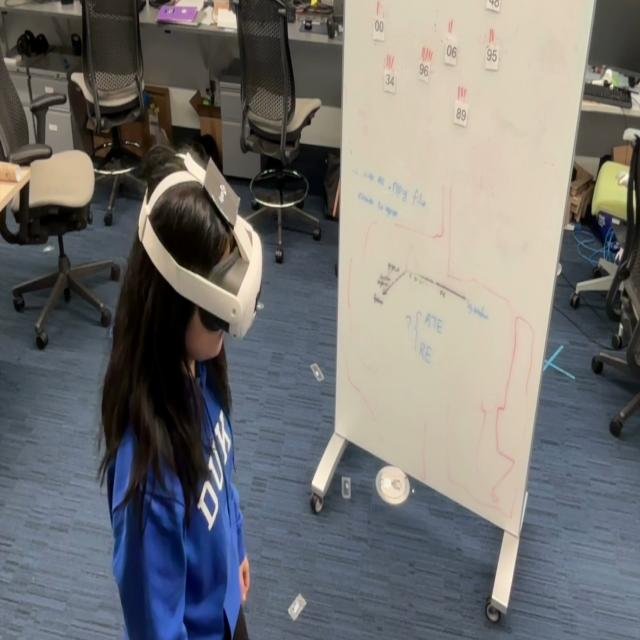Headset: (136, 150, 264, 341)
UnityLogo: (201, 153, 242, 230)
